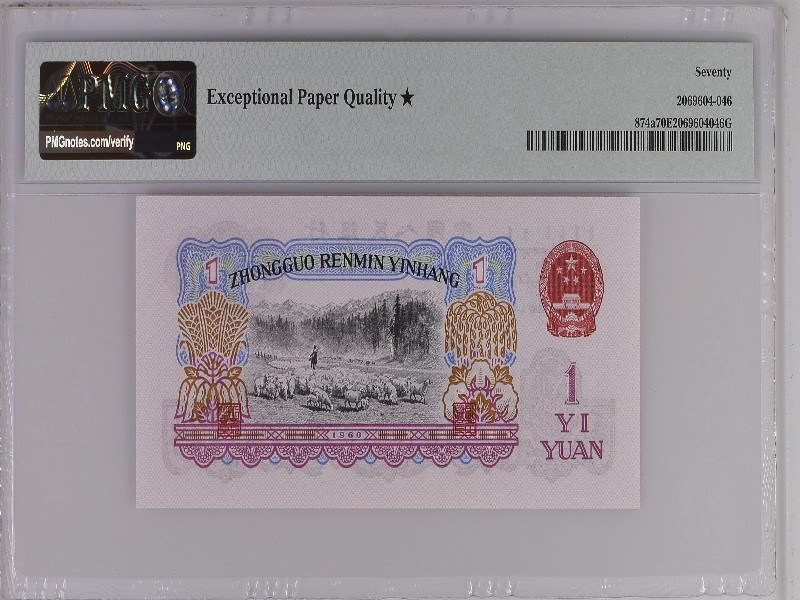papernote: (134, 189, 644, 513)
